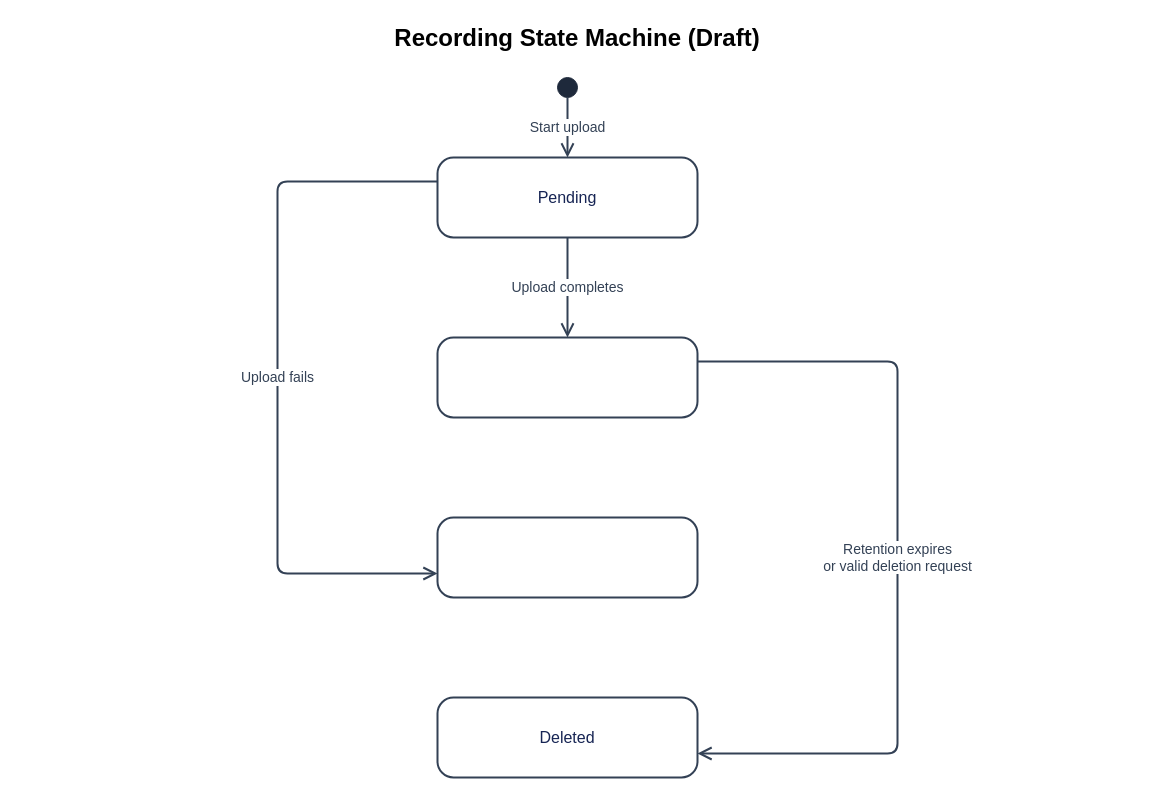
Image size: 1154x795. Some labels were removed from this diagram. The centre of each missing label's shape, as x and y in pixels:
"Available" belongs at pixel 567 377.
"Failed" belongs at pixel 567 557.
